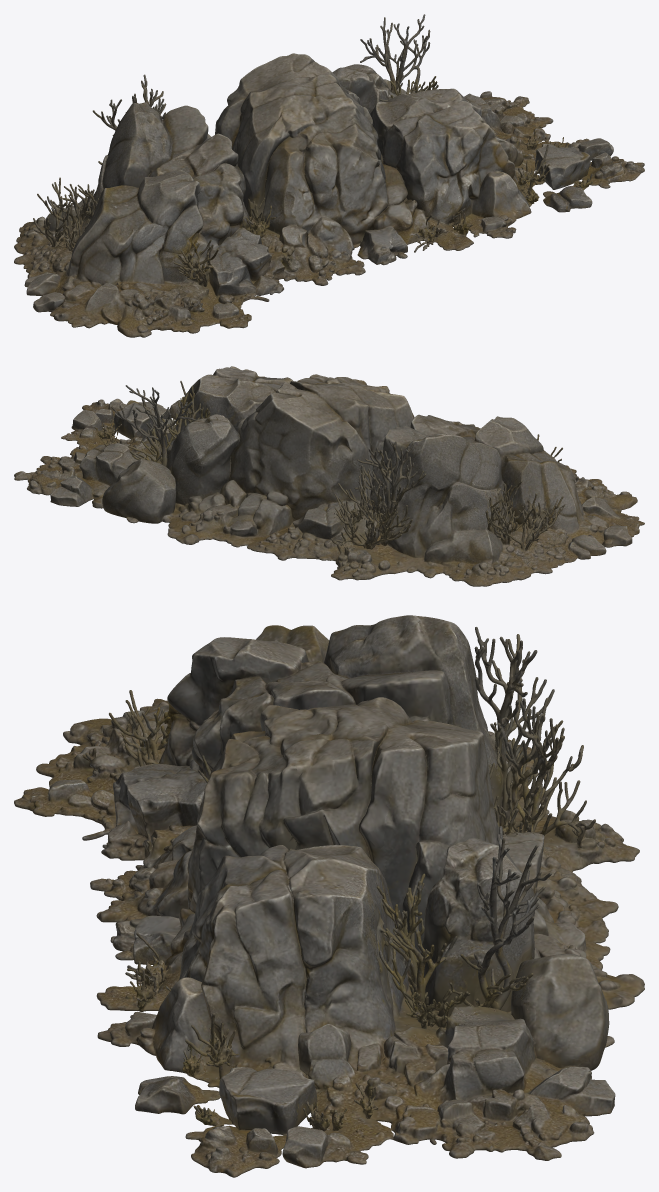
File: rock_outcrop.glb
The picture shows the model from 3 angles, top to bottom: view 1: azimuth 30°, elevation 25°; view 2: azimuth 150°, elevation 25°; view 3: azimuth 270°, elevation 25°; orthographic projection. The views are drawn at different scales.
Parts seen in each view (by area): view 1: rock_outcrop; view 2: rock_outcrop; view 3: rock_outcrop.
Boxes of the visible parts, x1,y1,x2,y2 form: rock_outcrop: (14, 14, 644, 337); rock_outcrop: (14, 366, 644, 586); rock_outcrop: (14, 615, 644, 1177).
Bounding box in the file's own units: 190 × 38.99 × 104.
1 material, 1 textured.
